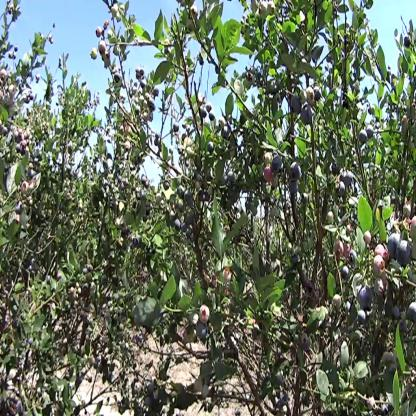intermediate: (332, 242, 353, 261), (375, 243, 385, 275), (263, 167, 273, 182)
mature: (389, 234, 411, 264), (172, 219, 195, 239), (179, 186, 194, 215), (359, 290, 373, 312), (291, 163, 301, 193), (15, 129, 27, 153), (358, 130, 376, 145), (301, 105, 313, 125), (291, 95, 301, 113), (408, 301, 416, 322), (276, 156, 283, 170)
young: (258, 3, 278, 19), (111, 4, 126, 21), (200, 306, 210, 325), (90, 43, 99, 63), (264, 150, 274, 166), (307, 88, 316, 105), (22, 179, 31, 196)
